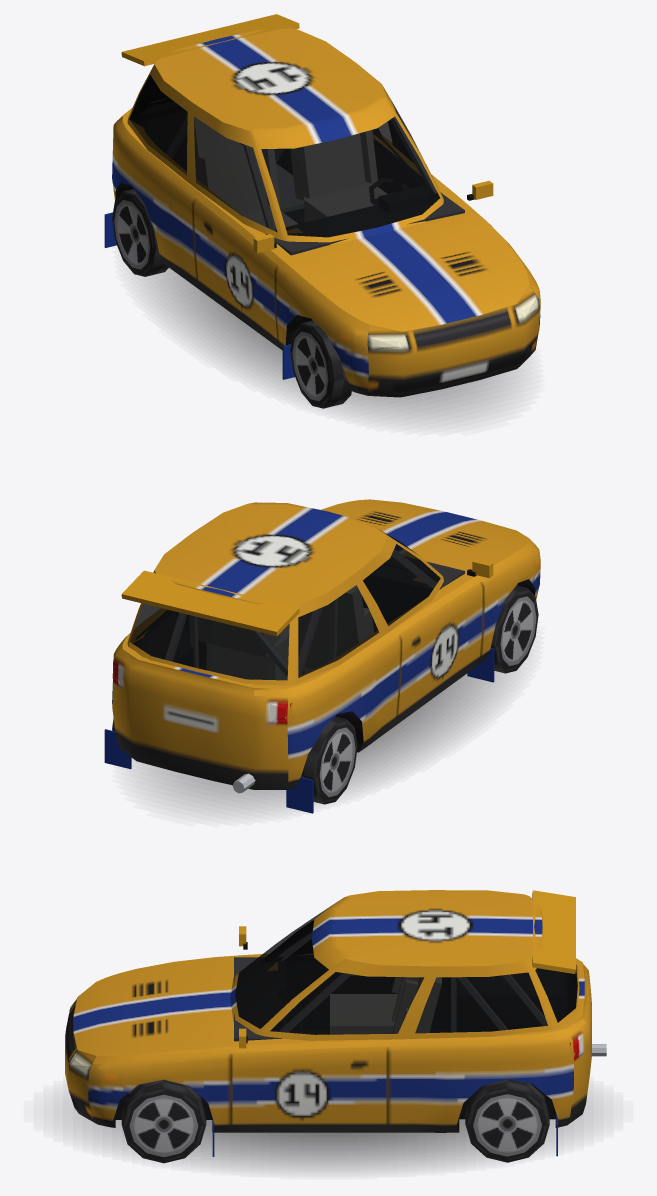
File: miudo.glb
3 views of the same model, one above another, from view 1: azimuth 30°, elevation 25°; view 2: azimuth 150°, elevation 25°; view 3: azimuth 270°, elevation 25° (orthographic). The views are drawn at different scales.
Visible parts, largest first — view 1: Carroceria, Interior, Capo_malha, Porta_D_malha, Sombra, Roda_DD, Tampa_malha, Roda_TD, Porta_E_malha; view 2: Carroceria, Tampa_malha, Interior, Sombra, Porta_D_malha, Capo_malha, Roda_TD, Roda_DD; view 3: Carroceria, Porta_E_malha, Interior, Sombra, Capo_malha, Tampa_malha, Roda_DE, Roda_TE, Porta_D_malha.
Boxes of the visible parts, x1,y1,x2,y2 form: Carroceria: (104,28,540,397); Interior: (132,101,464,255); Capo_malha: (298,221,537,333); Porta_D_malha: (193,119,283,339); Sombra: (139,268,519,422); Roda_DD: (290,320,351,408); Tampa_malha: (121,14,299,119); Roda_TD: (112,189,168,276); Porta_E_malha: (382,85,493,200); Carroceria: (104,502,540,813); Tampa_malha: (121,570,299,768); Interior: (133,549,464,679); Sombra: (136,670,513,812); Porta_D_malha: (377,536,493,715); Capo_malha: (324,499,536,566); Roda_TD: (301,716,357,804); Roda_DD: (490,585,538,673); Carroceria: (65,890,606,1156); Porta_E_malha: (231,959,388,1124); Interior: (128,929,576,1093); Sombra: (63,1098,593,1170); Capo_malha: (79,960,213,1068); Tampa_malha: (530,890,591,1096); Roda_DE: (121,1079,206,1163); Roda_TE: (465,1079,549,1162); Porta_D_malha: (239,920,313,959).
Bounding box in the file's own units: 2.28 × 1.44 × 4.32.
Materials: 13 (5 with a texture image).
